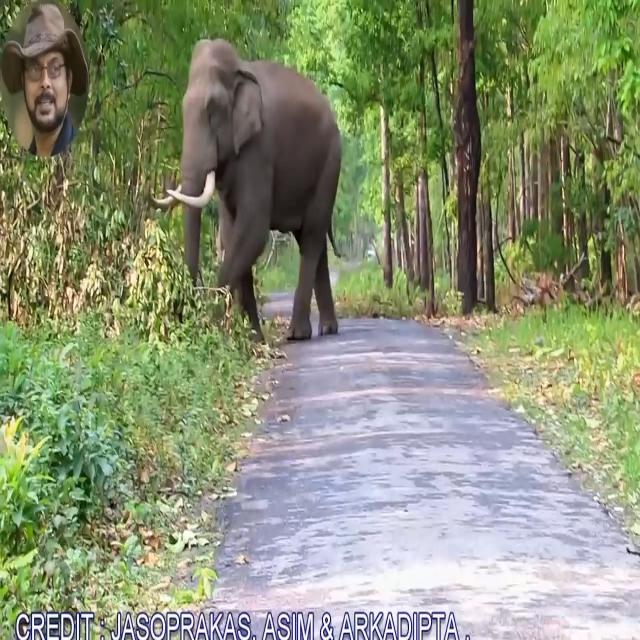ELEPHANT: (150, 34, 342, 338)
